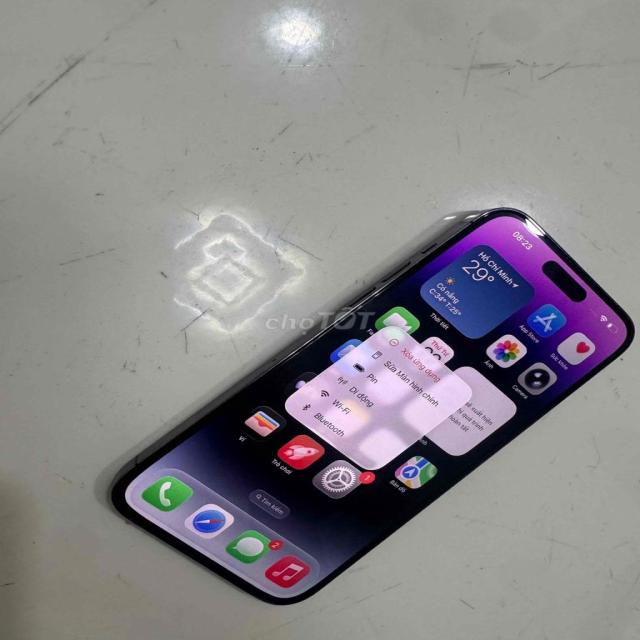gen_14: (101, 202, 635, 609)
